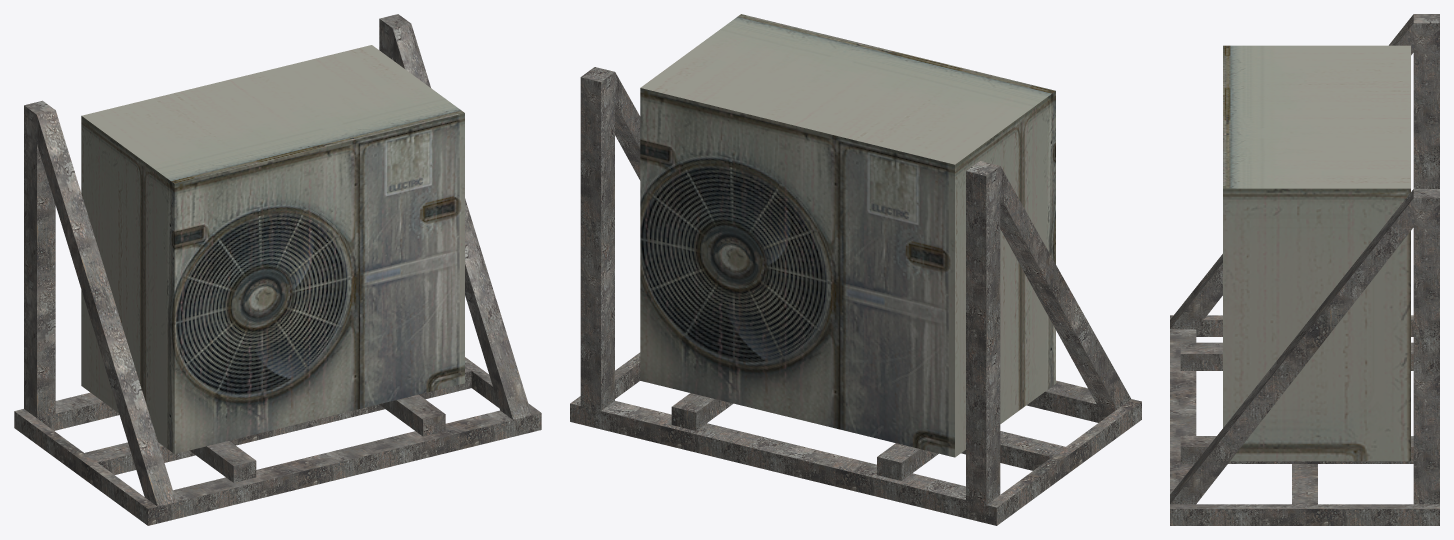
File: CT_aircon_unit_typeB_01.FBX
3 renders of one model, left to right at view 1: azimuth 30°, elevation 25°; view 2: azimuth 150°, elevation 25°; view 3: azimuth 270°, elevation 25°, orthographic. The views are drawn at different scales.
Parts seen in each view (by area): view 1: CT_aircon_unit_typeB_01; view 2: CT_aircon_unit_typeB_01; view 3: CT_aircon_unit_typeB_01.
Boxes of the visible parts, box(x1,y1,x2,y2) form: CT_aircon_unit_typeB_01: box(14, 14, 541, 525); CT_aircon_unit_typeB_01: box(570, 14, 1141, 525); CT_aircon_unit_typeB_01: box(1170, 14, 1439, 525).
Size of the model in its own units: 122 by 94.84 by 71.83.
